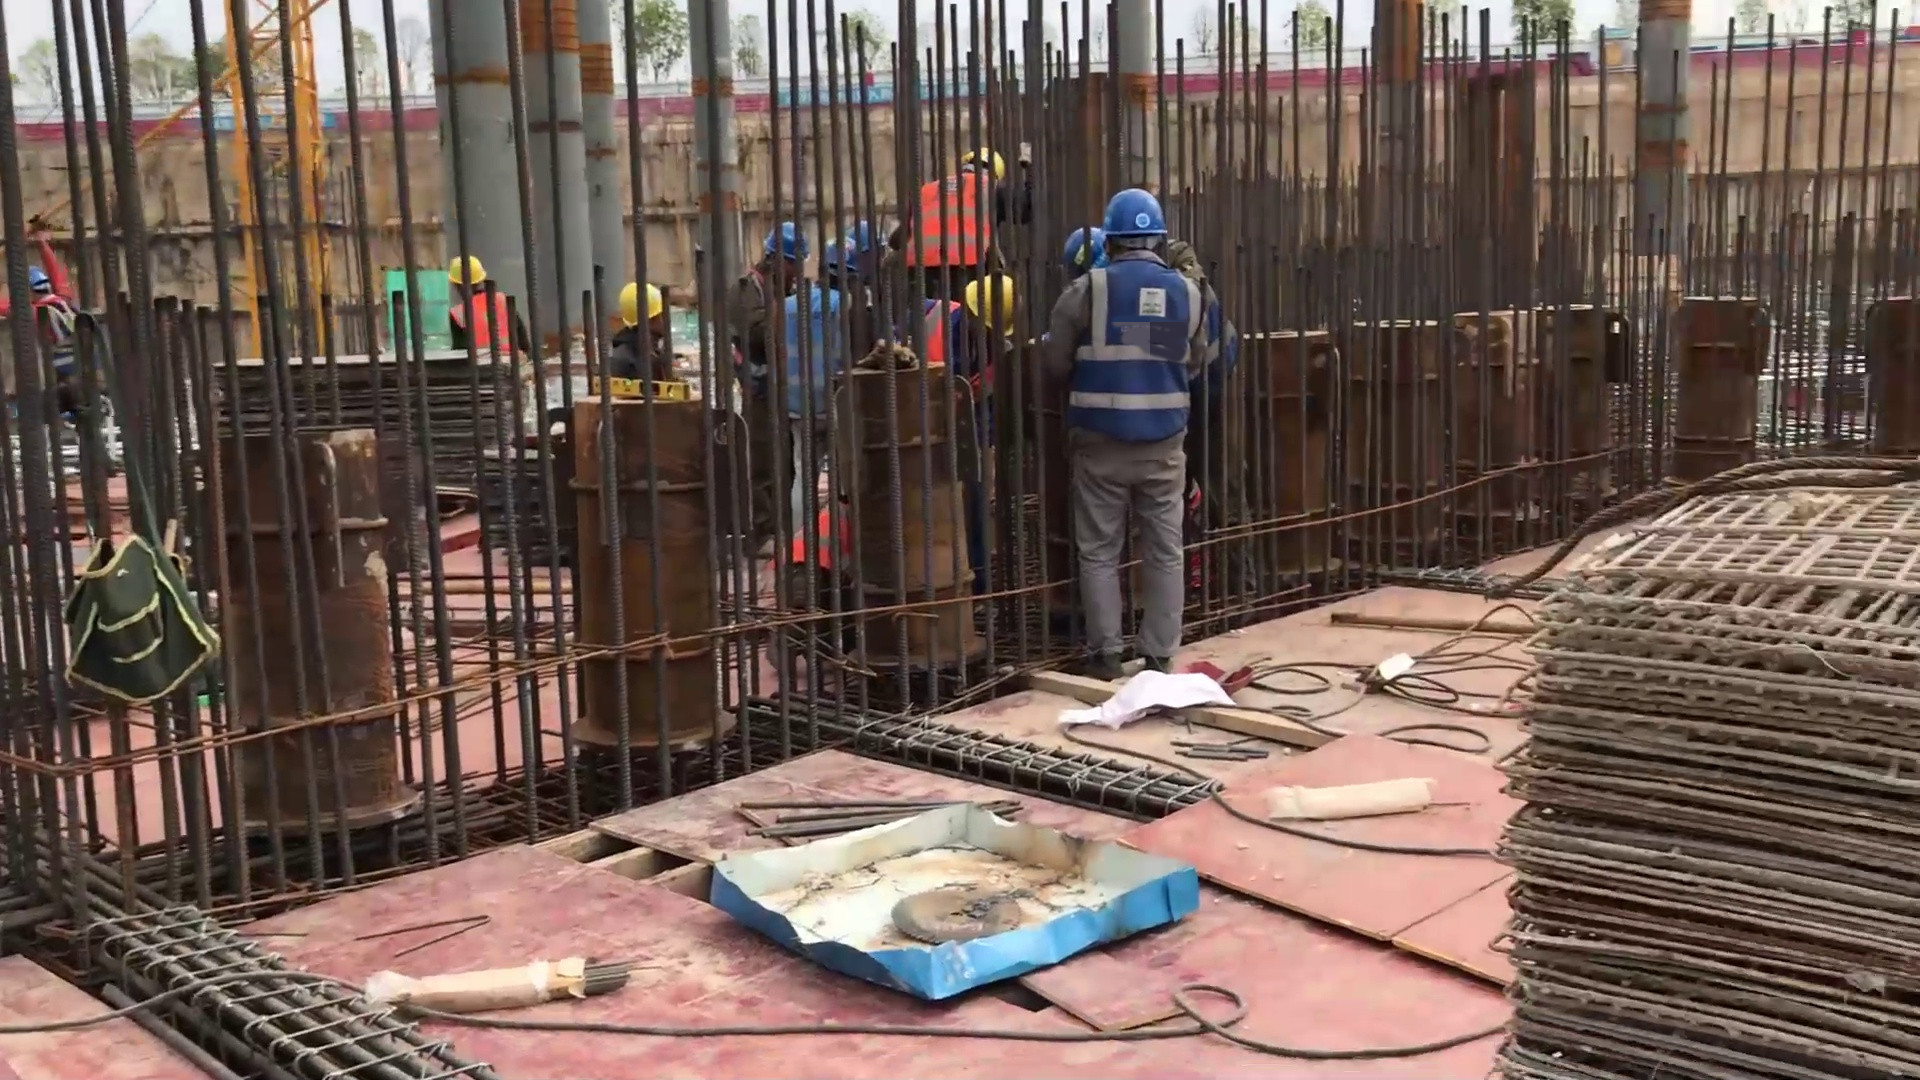helmet: (1099, 184, 1160, 244), (967, 276, 1025, 333), (757, 219, 813, 269), (1058, 220, 1107, 277), (814, 233, 861, 281), (619, 283, 667, 329), (446, 256, 497, 290), (963, 148, 1006, 181), (31, 266, 53, 294)
person: (1046, 181, 1190, 688), (1065, 227, 1243, 515), (729, 215, 821, 495), (918, 275, 1026, 495), (785, 234, 867, 498), (904, 141, 1010, 326), (443, 255, 536, 387), (606, 284, 669, 422), (28, 269, 89, 394)
vest: (1078, 263, 1193, 451), (774, 286, 854, 416), (919, 302, 997, 418), (913, 168, 988, 281), (782, 504, 860, 580), (451, 294, 519, 376), (40, 302, 82, 388)
